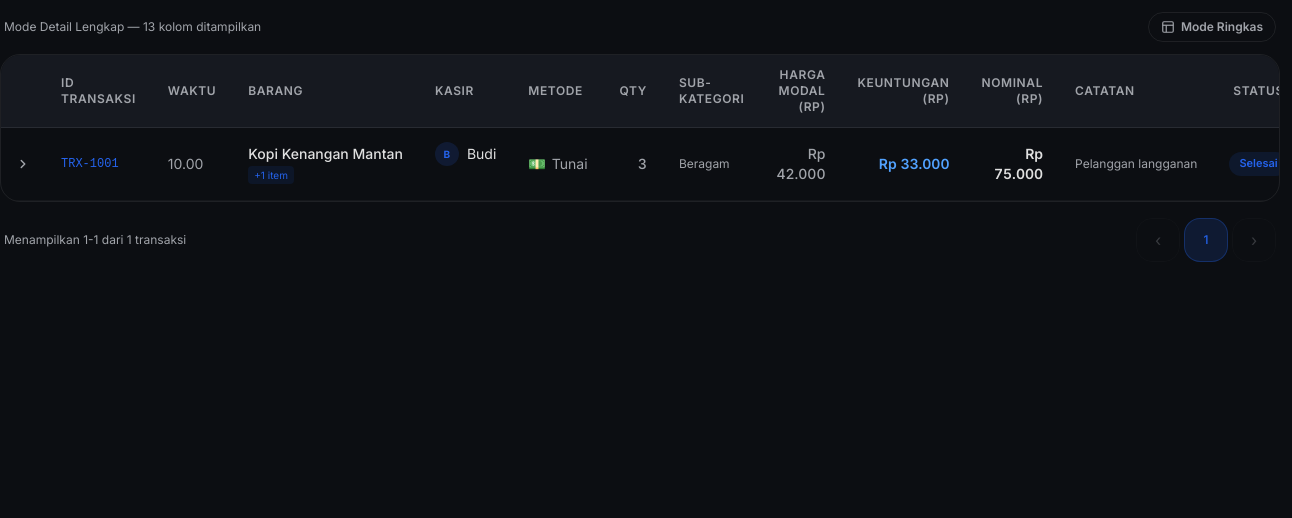
Scenario: TransactionTable — Mode Ringkas & Expandable Row (Roadmap 5.C) › expands row to show item breakdown table when chevron is clicked
Step 1. Click the button named "Buka rincian TRX-1001" → (23,164), box [9,150,37,178]
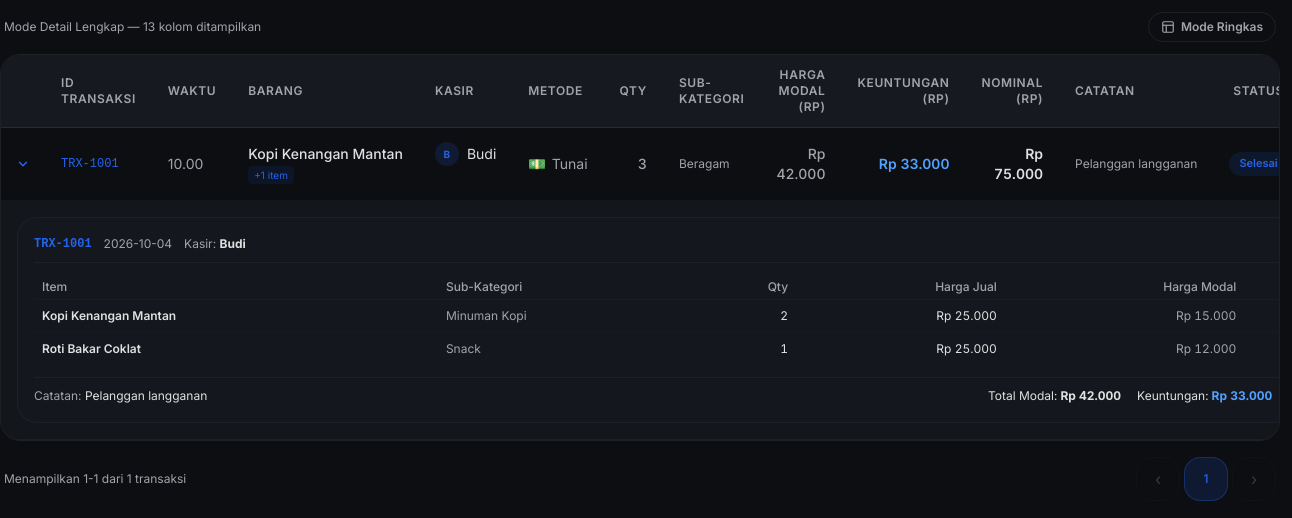
Result: the text "Roti Bakar Coklat" is shown at [42,341,141,356]
Result: the text "Minuman Kopi" is shown at [438,300,698,332]
